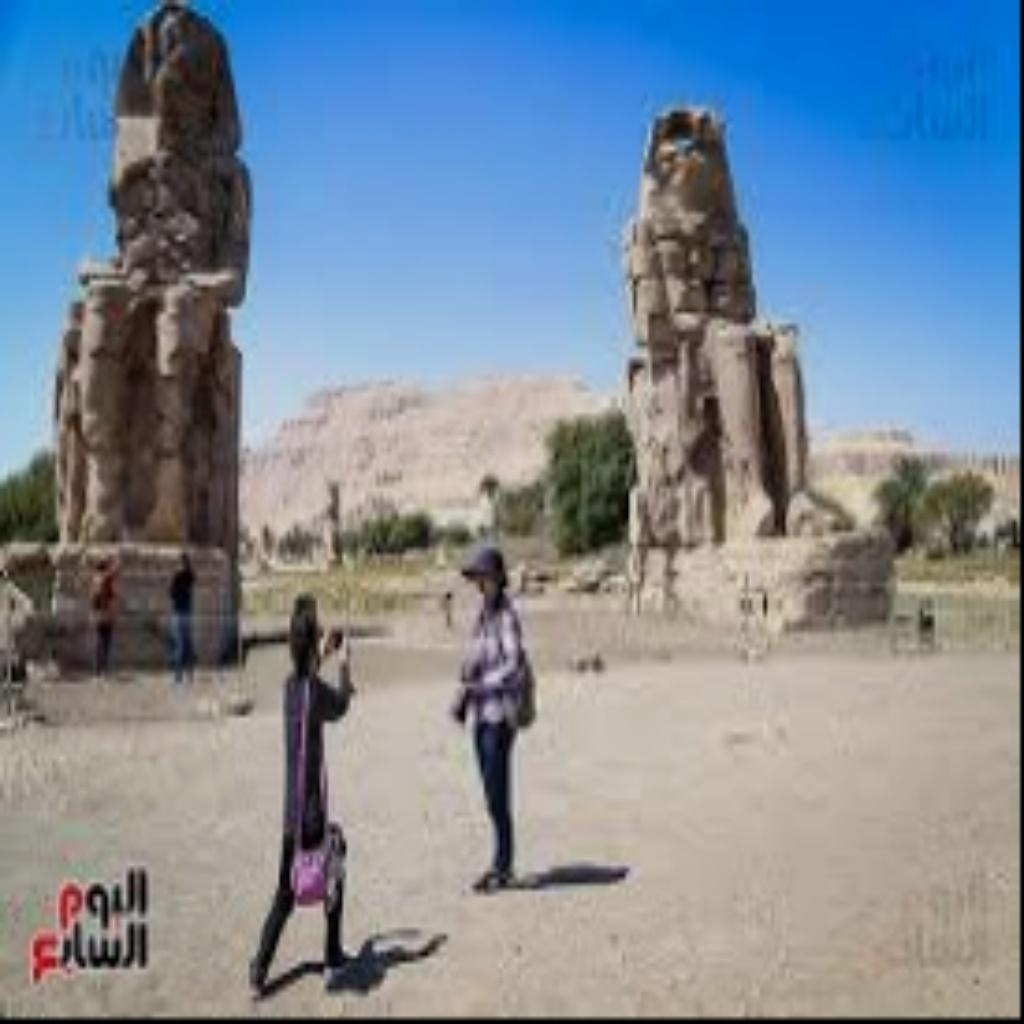Colossoi of Memnon: (596, 90, 886, 626), (30, 0, 257, 671)
